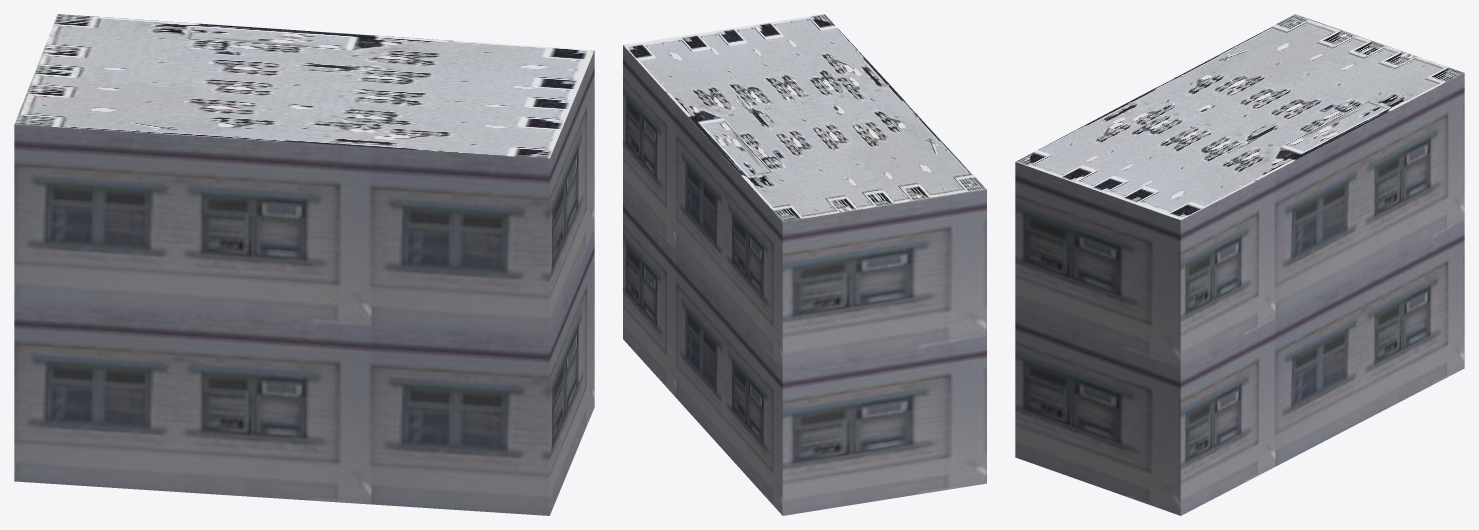
File: ResTex__1511.fbx
3 renders of one model, left to right at view 1: azimuth 30°, elevation 25°; view 2: azimuth 150°, elevation 25°; view 3: azimuth 270°, elevation 25°, orthographic. The views are drawn at different scales.
Parts seen in each view (by area): view 1: CityEngineMaterial_1_m, CityEngineMaterial_8_m; view 2: CityEngineMaterial_1_m, CityEngineMaterial_8_m; view 3: CityEngineMaterial_1_m, CityEngineMaterial_8_m.
Part boxes in pixels (<box>): CityEngineMaterial_1_m: <box>14,51,594,515</box>; CityEngineMaterial_8_m: <box>14,14,594,158</box>; CityEngineMaterial_1_m: <box>623,45,986,515</box>; CityEngineMaterial_8_m: <box>623,14,986,221</box>; CityEngineMaterial_1_m: <box>1015,73,1464,515</box>; CityEngineMaterial_8_m: <box>1015,14,1464,220</box>.
Size of the model in its own units: 8.98 by 6 by 8.27.
2 materials, 2 textured.
